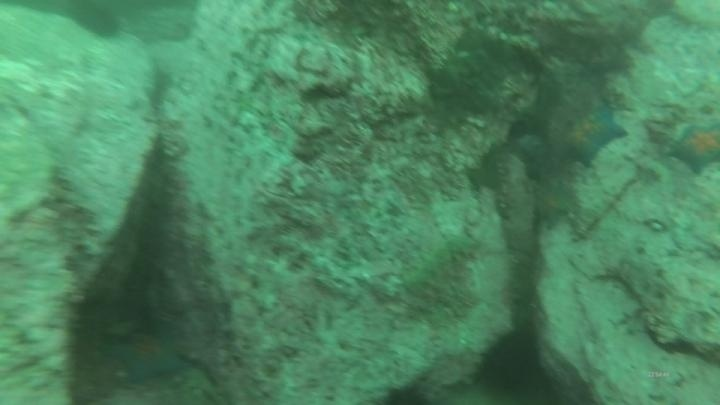echinus: (472, 326, 545, 400), (67, 3, 125, 42)
holothurian: (398, 233, 480, 295), (494, 150, 537, 252)
starfish: (103, 325, 192, 386), (557, 102, 629, 169), (664, 121, 720, 177), (532, 180, 575, 228)
